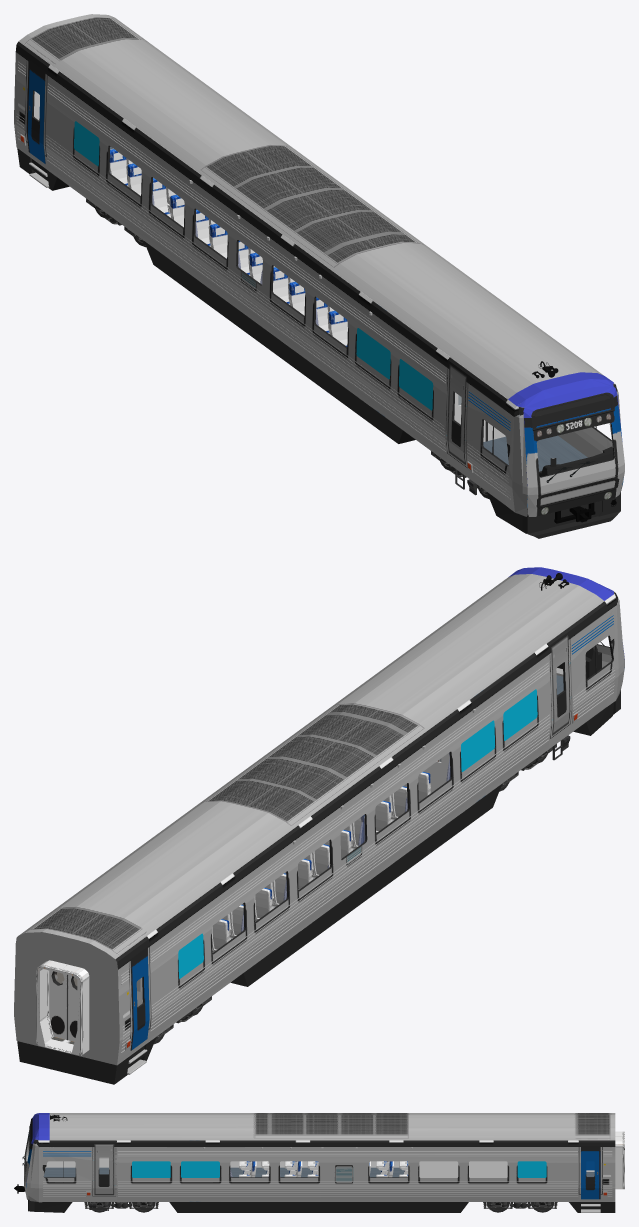
The model's file is nswxplorerfront.obj.
3 views of the same model, one above another, from view 1: azimuth 30°, elevation 25°; view 2: azimuth 150°, elevation 25°; view 3: azimuth 270°, elevation 25° (orthographic). The views are drawn at different scales.
Parts seen in each view (by area): view 1: jibung2, frontside, bid, front, habu, chairs, windowmak, bumper, badak, door_RB, frontteul, frontinside (+1 smaller); view 2: jibung2, frontside, bid, habu, backout, chairs, mak, windowmak, backdoor, door_RB; view 3: frontside, jibung2, bid, habu, windowmak, chairs, DT71, badak, door_LB, frontinside, mak, front.
Boxes of the visible parts, x1,y1,x2,y2 form: jibung2: (19, 14, 612, 405); frontside: (14, 41, 623, 516); bid: (16, 61, 510, 499); front: (517, 379, 624, 516); habu: (17, 148, 526, 533); chairs: (109, 148, 347, 346); windowmak: (74, 121, 433, 410); bumper: (522, 492, 620, 538); badak: (110, 146, 587, 471); door_RB: (26, 68, 45, 163); frontteul: (531, 392, 619, 508); frontinside: (558, 423, 612, 457); jibung2: (19, 567, 613, 958); frontside: (14, 592, 624, 1065); bid: (121, 615, 614, 1052); habu: (17, 702, 614, 1084); backout: (14, 932, 119, 1065); chairs: (212, 772, 430, 952); mak: (36, 960, 89, 1055); windowmak: (178, 689, 537, 978); backdoor: (49, 970, 77, 1041); door_RB: (130, 955, 149, 1050); frontside: (26, 1139, 615, 1202); jibung2: (39, 1113, 615, 1140); bid: (43, 1151, 612, 1196); habu: (34, 1201, 615, 1212); windowmak: (132, 1161, 546, 1177); chairs: (239, 1161, 408, 1177); DT71: (84, 1202, 557, 1212); badak: (43, 1167, 594, 1177); door_LB: (581, 1151, 600, 1199); frontinside: (27, 1148, 398, 1167); mak: (615, 1131, 624, 1189); front: (24, 1113, 38, 1199).
Size of the model in its own units: 3.06 by 4.18 by 26.15.
39 materials, 38 textured.
